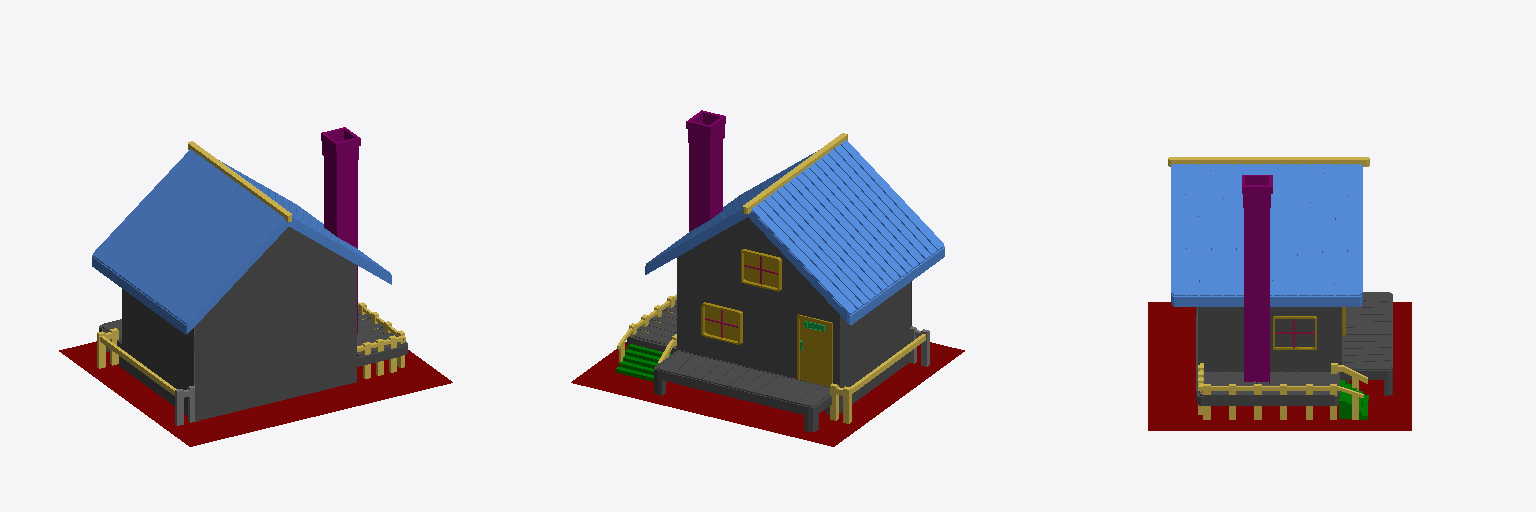
Rendered from HOUSE1.obj.
The picture shows the model from 3 angles: view 1: azimuth 30°, elevation 25°; view 2: azimuth 150°, elevation 25°; view 3: azimuth 270°, elevation 25°; orthographic projection.
Parts seen in each view (by area): view 1: Box001, Box002, Plane001, Object001, Box041, Box040, Box035; view 2: Box002, Object001, Plane001, Box001, Box041, Box003, Box046, Box007, StraightStair001, Box040, Box035; view 3: Box002, Plane001, Object001, Box001, Box041, Box040, StraightStair001, Box024.
Part boxes in pixels (x1,y1,x2,y2): Box001: (99,227,407,421); Box002: (92,149,391,334); Plane001: (59,341,452,446); Object001: (122,289,403,389); Box041: (321,127,360,333); Box040: (188,141,291,221); Box035: (100,336,176,395); Box002: (645,140,944,324); Object001: (631,217,910,387); Plane001: (571,342,964,446); Box001: (627,281,911,431); Box041: (686,110,725,231); Box003: (797,314,832,386); Box046: (701,302,742,344); Box007: (741,249,781,291); StraightStair001: (616,344,671,381); Box040: (743,133,847,213); Box035: (850,334,925,393); Box002: (1171,164,1362,306); Plane001: (1148,302,1411,430); Object001: (1198,307,1341,394); Box001: (1196,292,1392,405); Box041: (1242,175,1272,383); Box040: (1168,157,1369,166); StraightStair001: (1339,380,1368,419); Box024: (1198,386,1363,397).
Size of the model in its own units: 420 by 338 by 364.